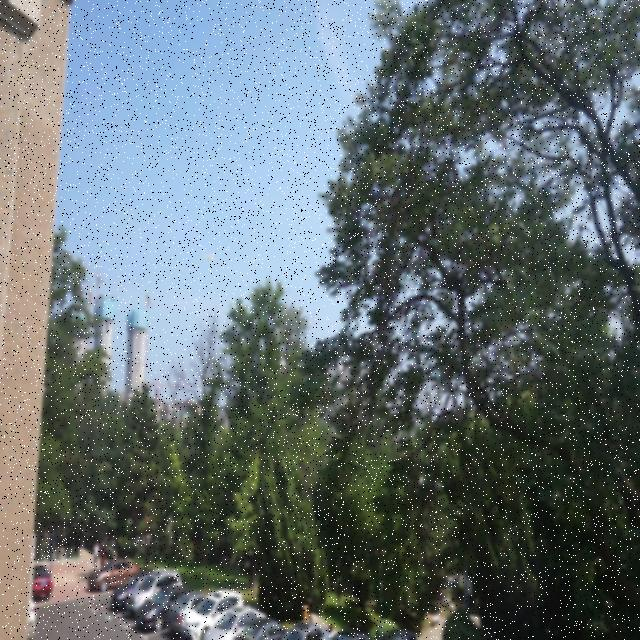UAV: (203, 254, 215, 263)
